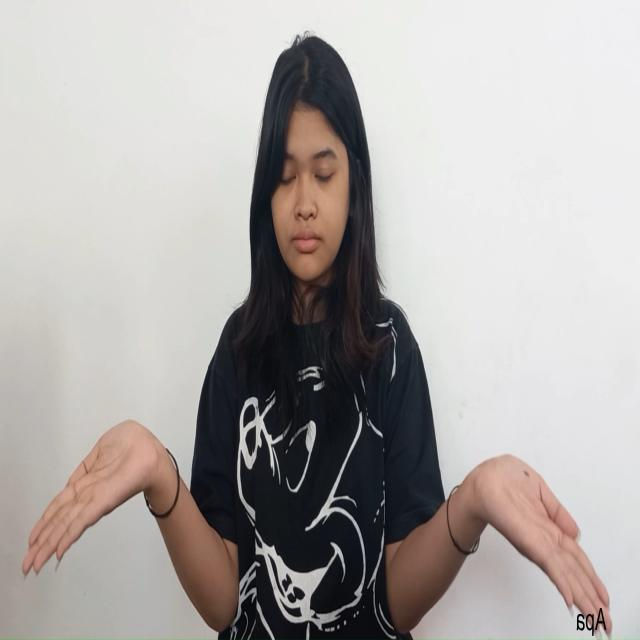Apa -BISINDO-: (19, 416, 614, 640)
